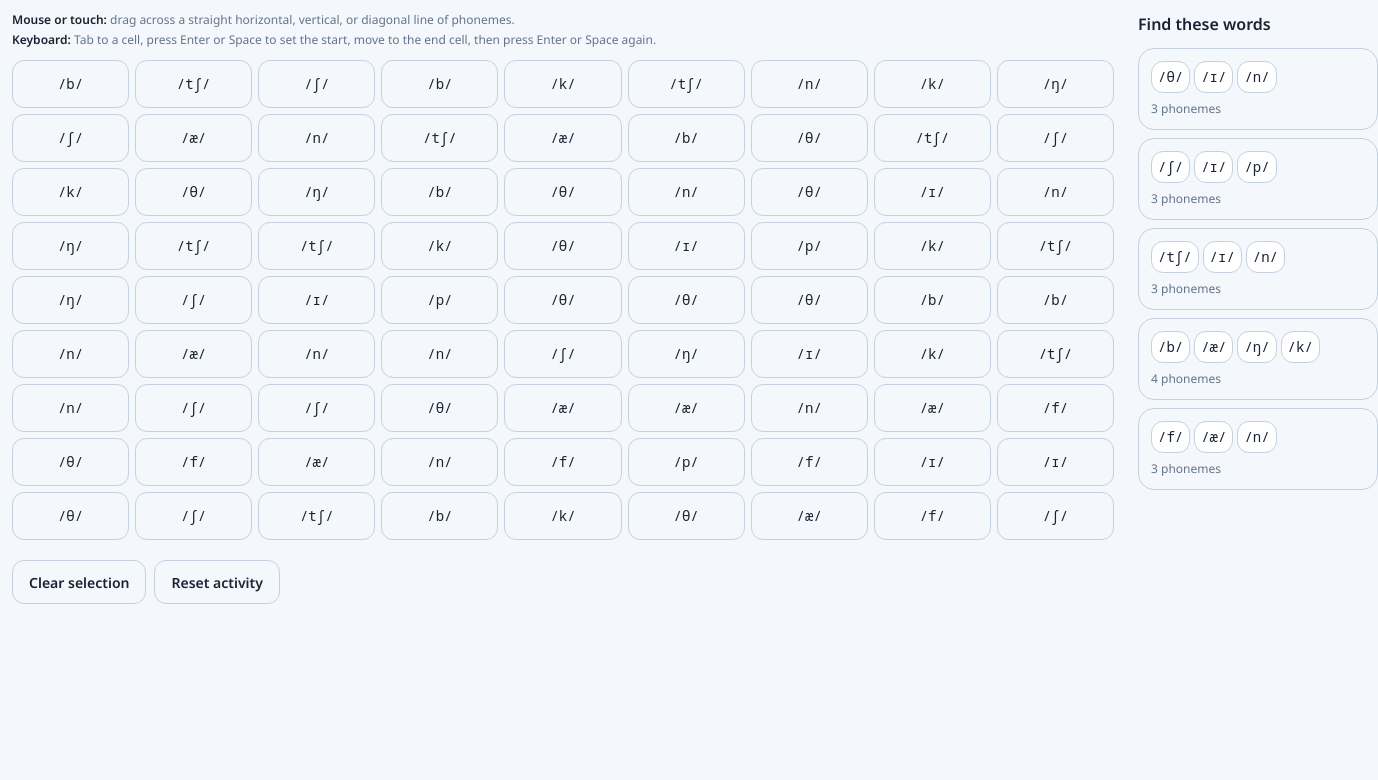
it: WordSearchGame › supports keyboard start and end selection for matches
The width and height of the screenshot is (1378, 780).
Click the 1st button "/b/" at (71, 84), box [12,60,129,108]
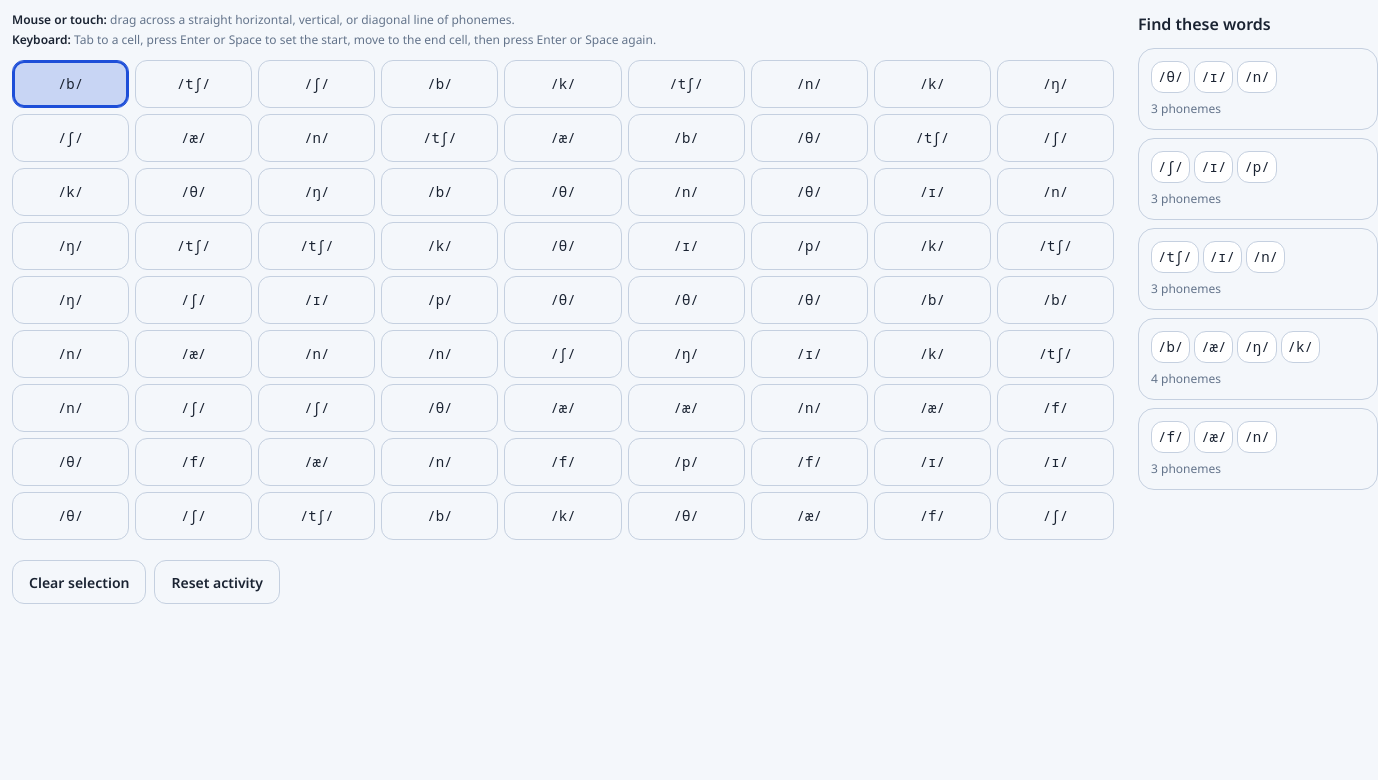
Click the 4th button "/k/" at (440, 246), box [381,222,498,270]
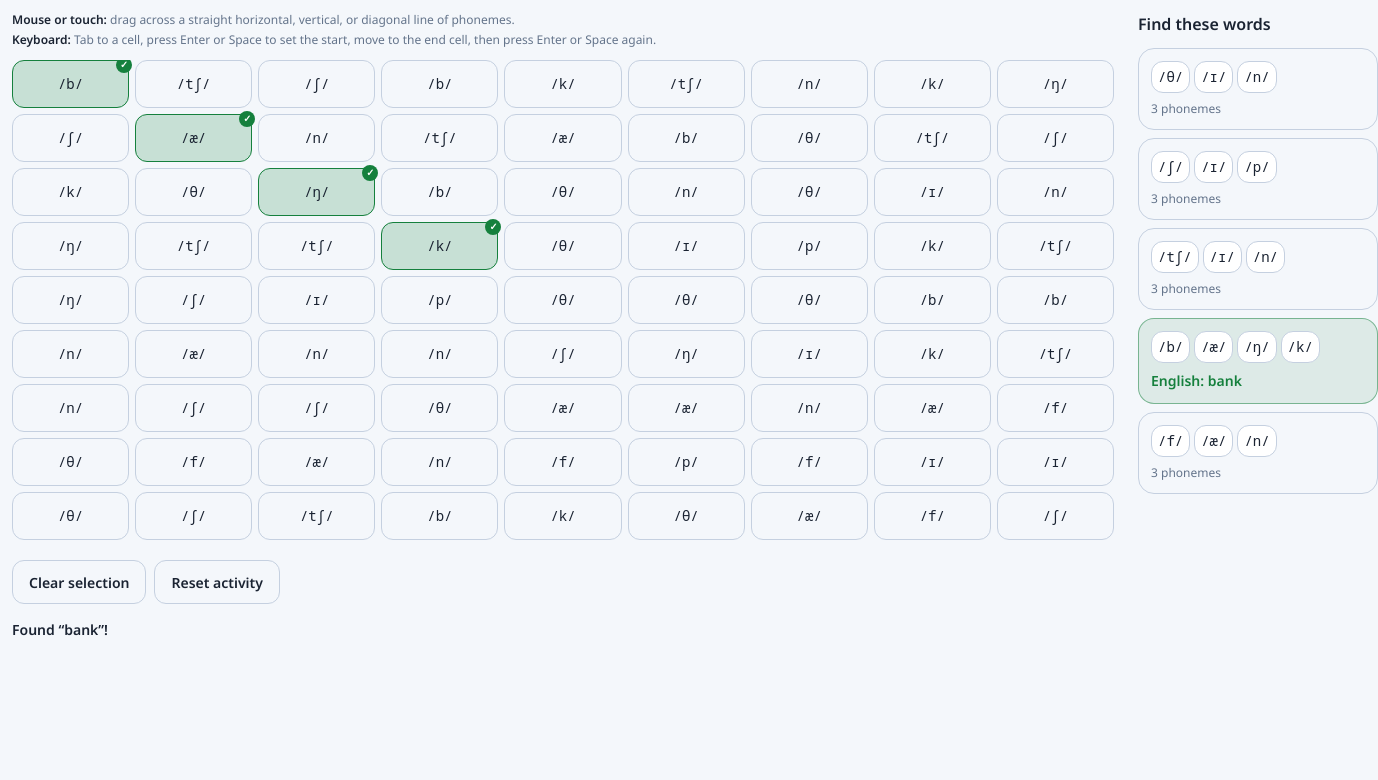
Now the message shows "bank", box [12,620,108,639]
